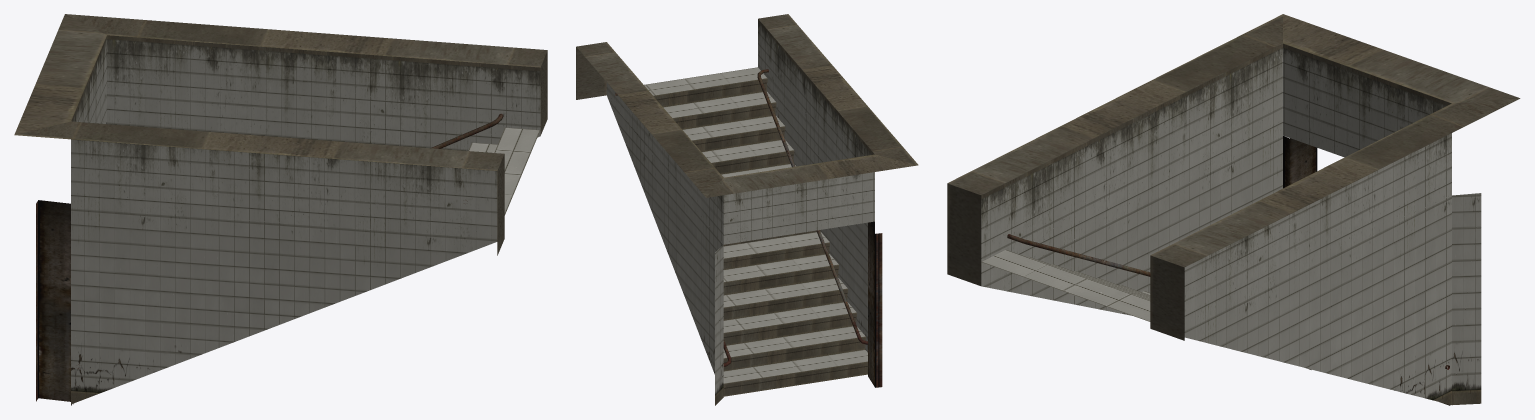
File: StairD.fbx
3 renders of one model, left to right at view 1: azimuth 30°, elevation 25°; view 2: azimuth 150°, elevation 25°; view 3: azimuth 270°, elevation 25°, orthographic. The views are drawn at different scales.
Parts seen in each view (by area): view 1: StairD; view 2: StairD; view 3: StairD.
Part boxes in pixels (box(x1,y1,x2,y2)): StairD: box(14, 14, 547, 405); StairD: box(576, 14, 918, 405); StairD: box(947, 14, 1520, 405).
Size of the model in its own units: 944 by 526 by 902.
